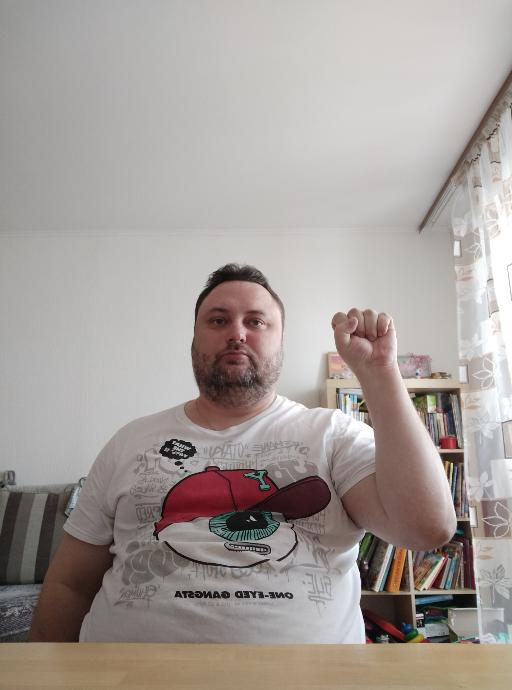fist: (328, 305, 400, 373)
